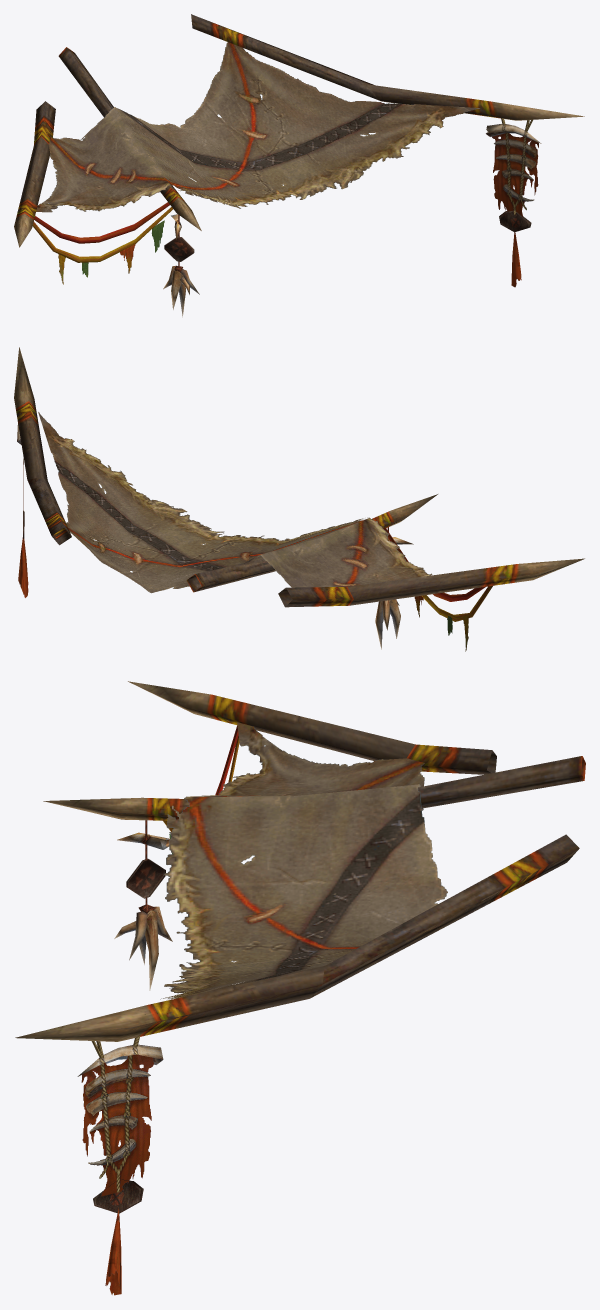
Rendered from 7001_Item_wujian_04.FBX.
3 renders of one model, top to bottom at view 1: azimuth 30°, elevation 25°; view 2: azimuth 150°, elevation 25°; view 3: azimuth 270°, elevation 25°, orthographic. The views are drawn at different scales.
Visible parts, largest first — view 1: 7001_Item_wujian_04; view 2: 7001_Item_wujian_04; view 3: 7001_Item_wujian_04.
Part boxes in pixels (<box>): 7001_Item_wujian_04: <box>14,14,584,317</box>; 7001_Item_wujian_04: <box>14,347,584,651</box>; 7001_Item_wujian_04: <box>15,681,585,1295</box>.
Size of the model in its own units: 206 by 78.08 by 124.
